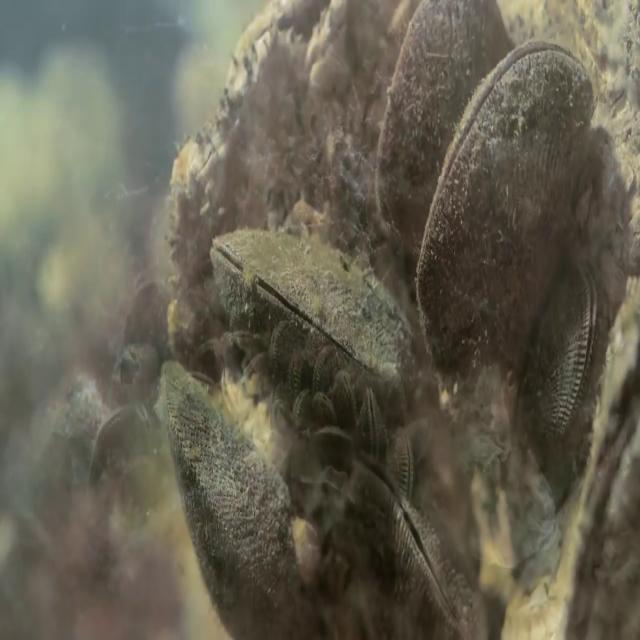Oyster-Closed: (417, 34, 615, 444), (200, 198, 422, 433), (154, 338, 329, 636), (342, 440, 482, 637), (524, 249, 603, 453), (358, 380, 391, 463), (384, 427, 415, 507), (266, 316, 298, 386), (309, 340, 346, 400), (333, 369, 358, 435), (287, 346, 314, 402)
Oyster-Indeterminate: (370, 0, 522, 272)
